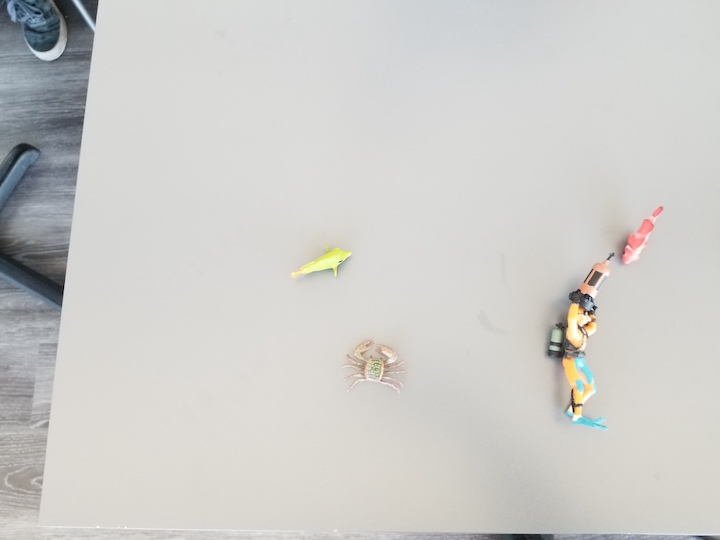crab: (342, 339, 408, 398)
diver: (547, 250, 616, 433)
fish: (618, 204, 663, 268), (289, 246, 354, 283)
